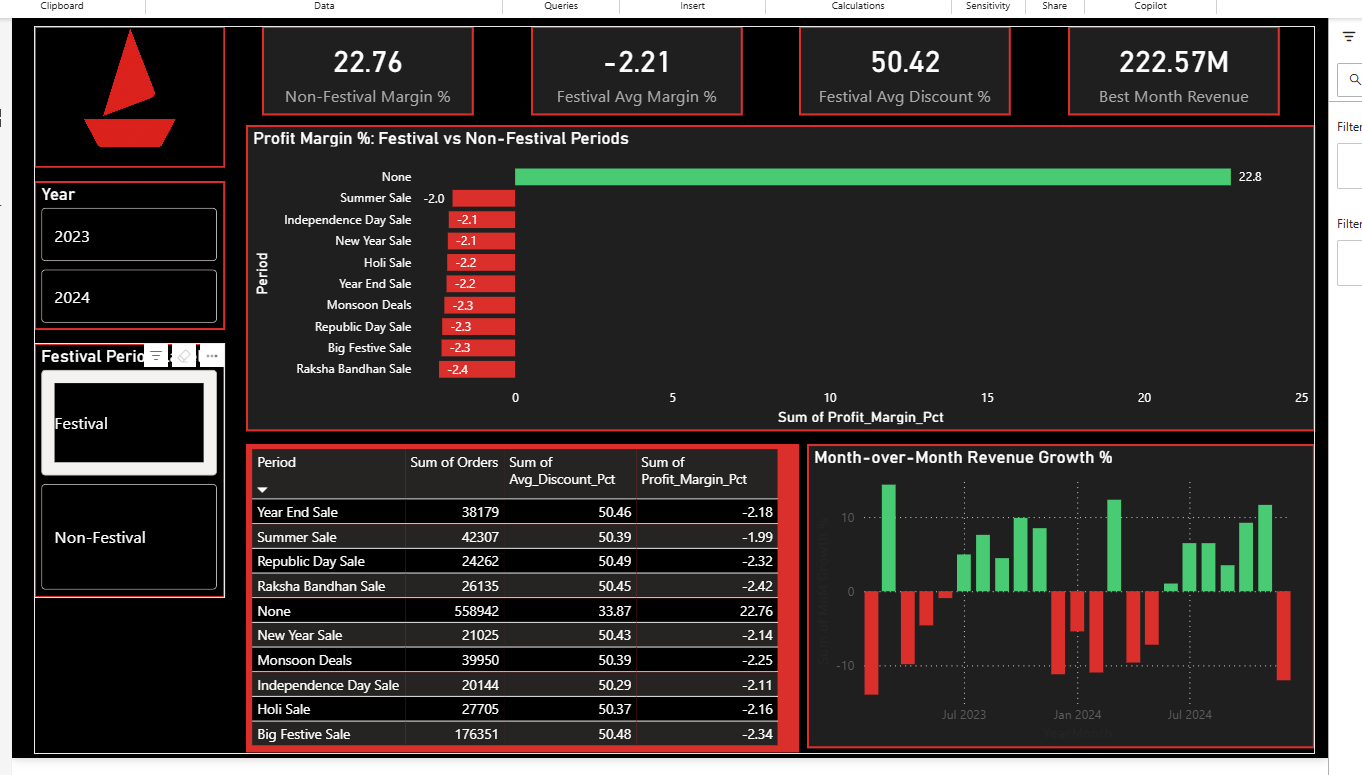

Layout of this report page (visuals, bound fields, positions):
{"tool":"powerbi","page":{"name":"Sales & Seasonality","canvas":[1280,720],"ordinal":1},"visuals":[{"type":"group","id":"g1","title":"Group 1","box":[21.3,8.1,1246.5,707.5],"z":0},{"type":"card","fields":{"Values":["FestivalImpact.Non-Festival Margin %"]},"box":[242.6,8.1,206,87],"z":0,"group":"g1"},{"type":"card","fields":{"Values":["FestivalImpact.Festival Avg Margin %"]},"box":[504.5,8.1,206,87],"z":1000,"group":"g1"},{"type":"card","fields":{"Values":["FestivalImpact.Festival Avg Discount %"]},"box":[765.3,8.1,206,87],"z":2000,"group":"g1"},{"type":"card","fields":{"Values":["FestivalImpact.Best Month Revenue"]},"box":[1027.2,8.1,206,87],"z":3000,"group":"g1"},{"type":"clusteredBarChart","title":"Profit Margin %: Festival vs Non-Festival Periods","fields":{"Category":["FestivalImpact.Period"],"Y":["Sum(FestivalImpact.Profit_Margin_Pct)"]},"box":[227.4,104.5,1040.4,298.4],"z":4000,"group":"g1"},{"type":"clusteredColumnChart","title":"Month-over-Month Revenue Growth %","fields":{"Category":["MonthlySales.YearMonth"],"Y":["Sum(MonthlySales.MoM Growth %)"]},"box":[773.5,415.1,494.3,296.4],"z":5000,"group":"g1"},{"type":"tableEx","fields":{"Values":["FestivalImpact.Period","Sum(FestivalImpact.Orders)","Sum(FestivalImpact.Avg_Discount_Pct)","Sum(FestivalImpact.Profit_Margin_Pct)"]},"box":[227.4,415.1,538,300.5],"z":6000,"group":"g1"},{"type":"image","box":[21.3,8.1,185.7,137.5],"z":7000,"group":"g1"},{"type":"advancedSlicerVisual","title":"Year","fields":{"Values":["MonthlySales.Yr"]},"box":[21.3,159.3,185.8,145.2],"z":8000,"group":"g1"},{"type":"advancedSlicerVisual","fields":{"Values":["FestivalImpact.Festival Period Label"]},"box":[21.3,316.7,185.8,247.7],"z":9000,"group":"g1"}]}

Visuals, with their boxes on the page's 1280x720 design canvas (x1, y1, x2, y2). These are canvas units, not pixel positions in the 1362x775 screenshot, which may show the page scaled, cropped or inside an application window:
"Group 1" group: 21, 8, 1268, 716
card - FestivalImpact.Non-Festival Margin %: 243, 8, 449, 95
card - FestivalImpact.Festival Avg Margin %: 504, 8, 710, 95
card - FestivalImpact.Festival Avg Discount %: 765, 8, 971, 95
card - FestivalImpact.Best Month Revenue: 1027, 8, 1233, 95
"Profit Margin %: Festival vs Non-Festival Periods" clusteredBarChart: 227, 104, 1268, 403
"Month-over-Month Revenue Growth %" clusteredColumnChart: 774, 415, 1268, 712
tableEx - FestivalImpact.Period x Sum(FestivalImpact.Orders): 227, 415, 765, 716
image: 21, 8, 207, 146
"Year" advancedSlicerVisual: 21, 159, 207, 304
advancedSlicerVisual - FestivalImpact.Festival Period Label: 21, 317, 207, 564
